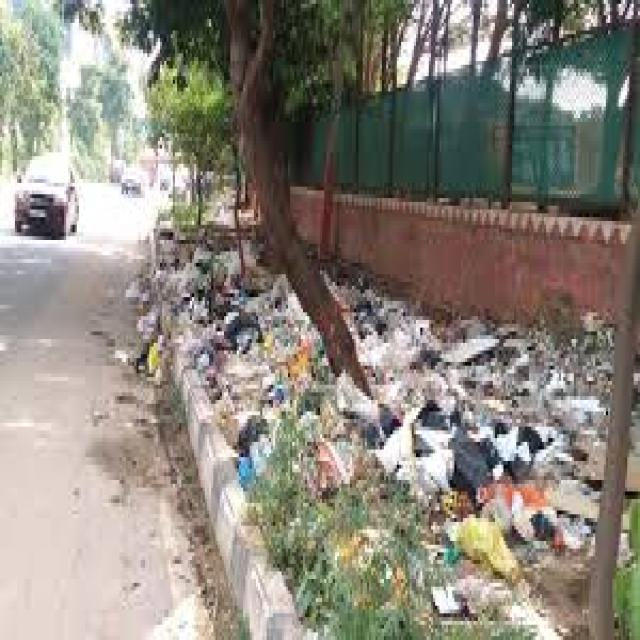garbage: (163, 237, 582, 556)
